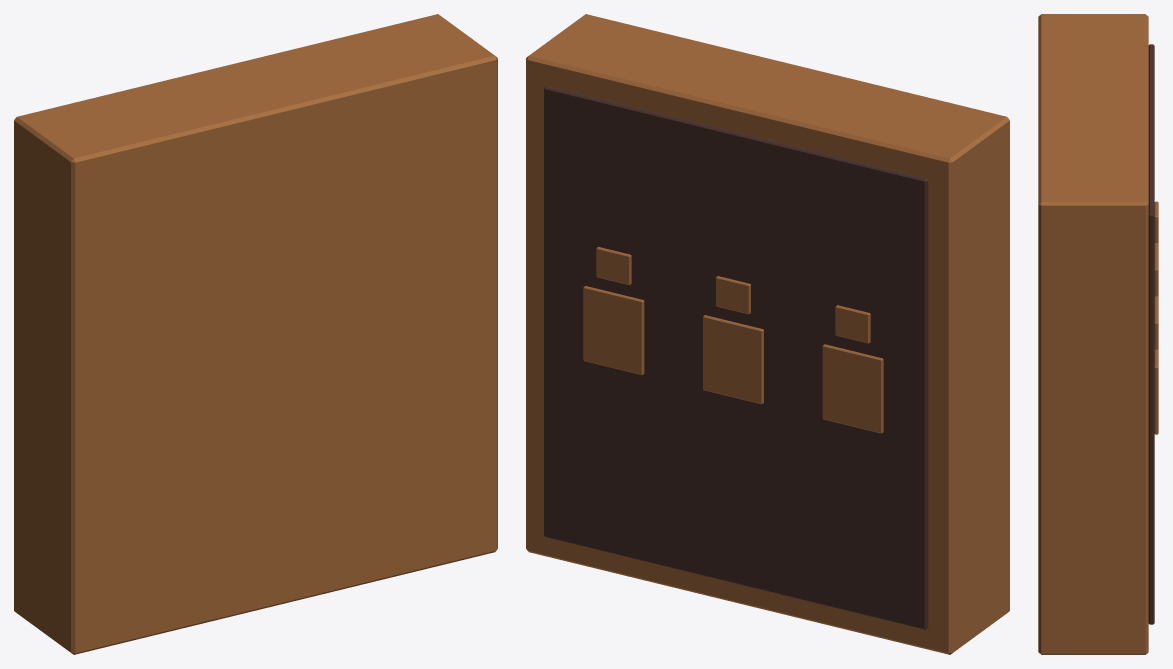
Rendered from tableau_fer.glb.
The picture shows the model from 3 angles, left to right: view 1: azimuth 30°, elevation 25°; view 2: azimuth 150°, elevation 25°; view 3: azimuth 270°, elevation 25°; orthographic projection. The views are drawn at different scales.
Parts seen in each view (by area): view 1: tableau_fer; view 2: tableau_fer; view 3: tableau_fer.
Boxes of the visible parts, bbox=[...] form: tableau_fer: bbox=[14, 14, 497, 654]; tableau_fer: bbox=[526, 14, 1009, 654]; tableau_fer: bbox=[1038, 14, 1158, 654].
Bounding box in the file's own units: 1.35 × 1.5 × 0.36.
1 material, 1 textured.
